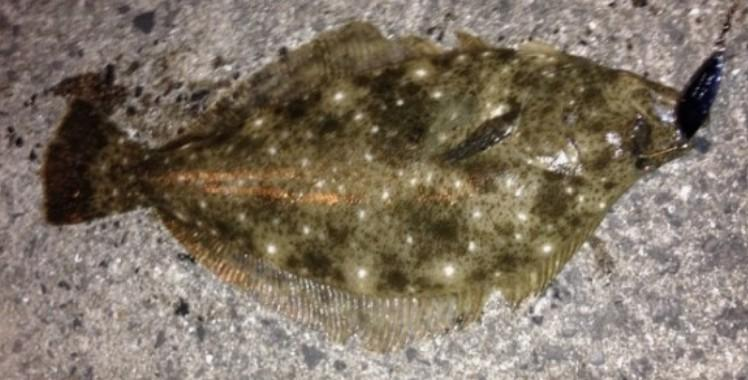fish: (41, 22, 686, 353)
